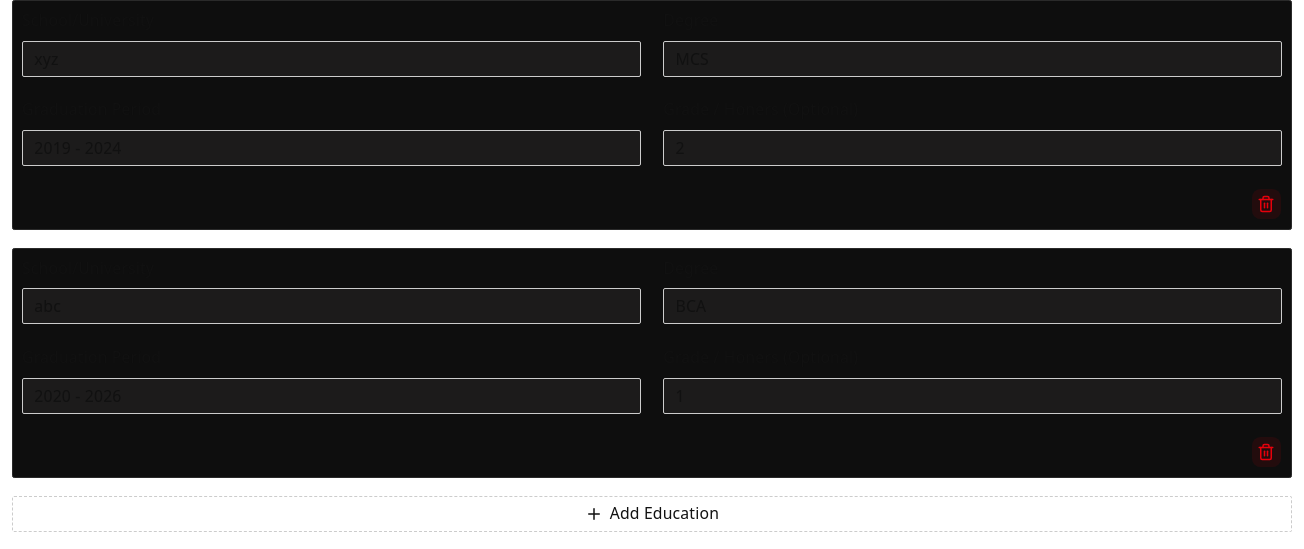
Scenario: Education section › clicking single delete button remove a education
Check: the number of elements with class "education-field" is 2, box [12,0,1292,230]; [12,248,1292,478]
Click the 1st button named "remove".
click(1266, 204)  # box [1250,188,1282,220]
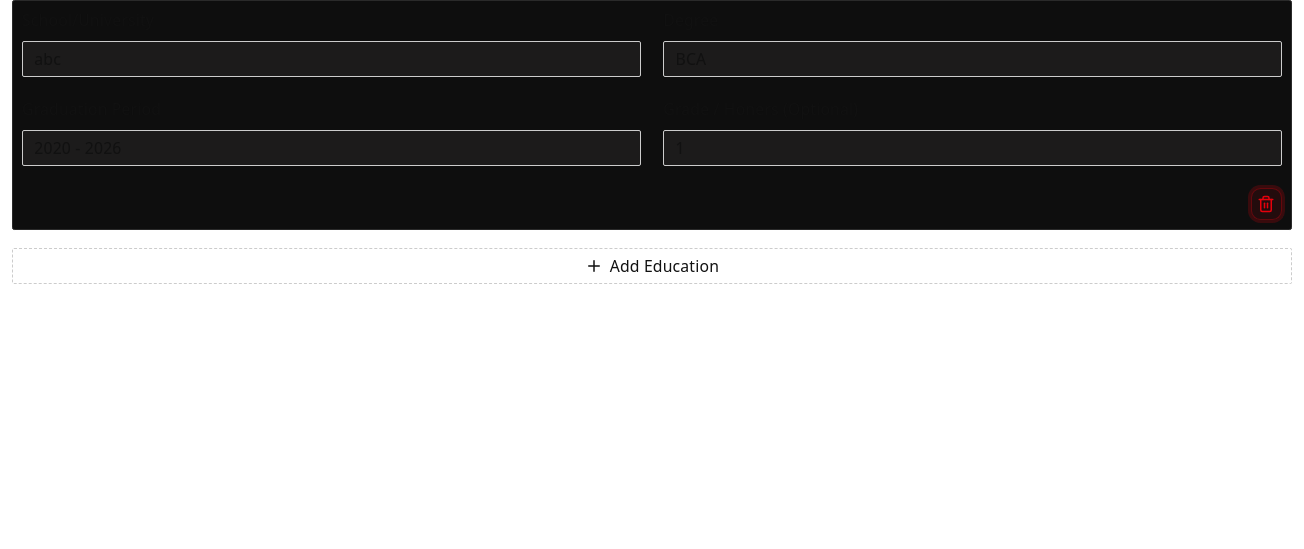
Check: the number of elements with class "education-field" is 1, box [12,0,1292,230]
